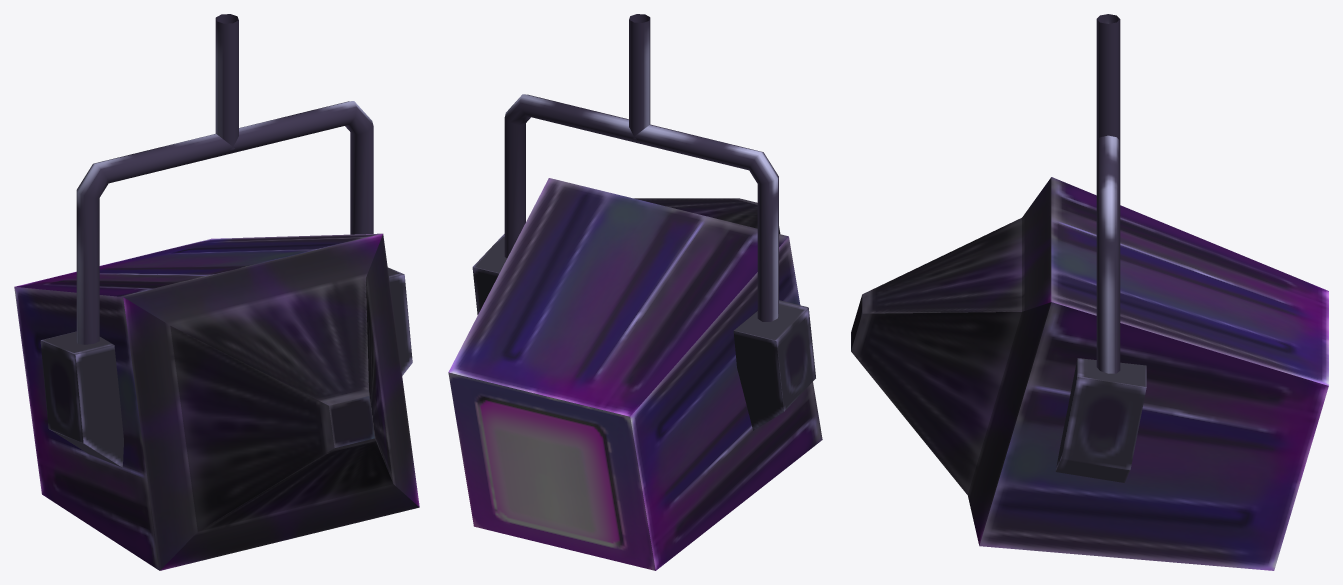
The model's file is Julebu_Deng7_fbx.FBX.
3 views of the same model, side by side, from view 1: azimuth 30°, elevation 25°; view 2: azimuth 150°, elevation 25°; view 3: azimuth 270°, elevation 25° (orthographic). The views are drawn at different scales.
Visible parts, largest first — view 1: Object027; view 2: Object027; view 3: Object027.
Boxes of the visible parts, x1,y1,x2,y2 form: Object027: (14, 14, 419, 570); Object027: (448, 14, 822, 570); Object027: (851, 14, 1328, 570).
Size of the model in its own units: 0.1423 by 0.2115 by 0.181.
